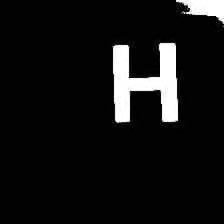LTR_H: (101, 34, 186, 129)
